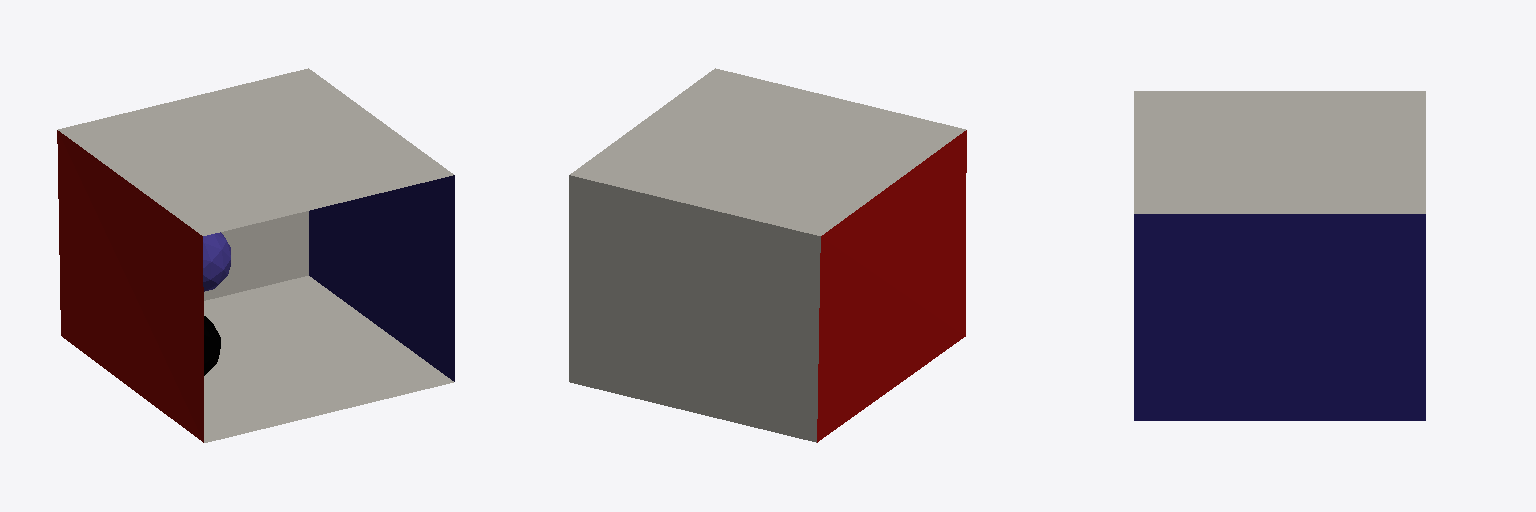
The model's file is CornellBox-Sphere-814.obj.
The picture shows the model from 3 angles: view 1: azimuth 30°, elevation 25°; view 2: azimuth 150°, elevation 25°; view 3: azimuth 270°, elevation 25°; orthographic projection.
Visible parts, largest first — view 1: ceiling, leftWall, floor, rightWall, backWall, leftSphere, rightSphere; view 2: backWall, ceiling, leftWall; view 3: rightWall, ceiling.
Boxes of the visible parts, x1=… form: ceiling: x1=58, y1=68, x2=453, y2=235; leftWall: x1=57, y1=130, x2=203, y2=442; floor: x1=204, y1=276, x2=453, y2=442; rightWall: x1=309, y1=175, x2=454, y2=381; backWall: x1=204, y1=211, x2=308, y2=300; leftSphere: x1=203, y1=232, x2=230, y2=291; rightSphere: x1=204, y1=316, x2=220, y2=375; backWall: x1=569, y1=175, x2=820, y2=442; ceiling: x1=570, y1=68, x2=965, y2=235; leftWall: x1=817, y1=130, x2=966, y2=442; rightWall: x1=1134, y1=214, x2=1425, y2=420; ceiling: x1=1134, y1=91, x2=1425, y2=213.
Bounding box in the file's own units: 2.02 × 1.59 × 2.03.